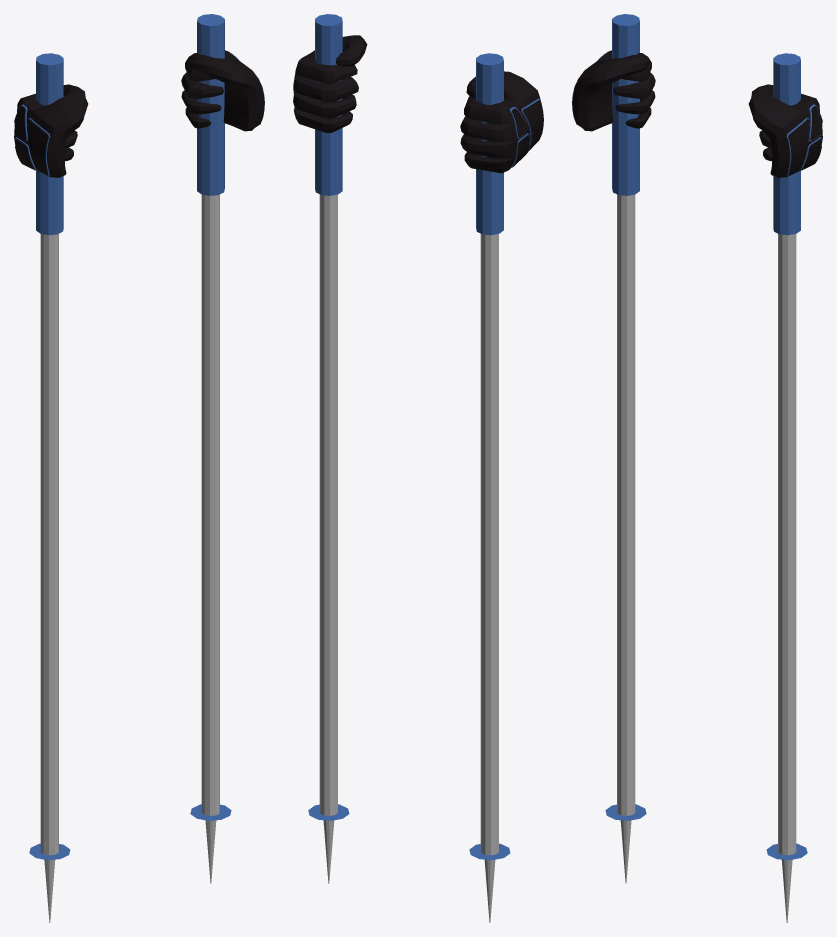
The model's file is Za_Hando.fbx.
3 renders of one model, left to right at view 1: azimuth 30°, elevation 25°; view 2: azimuth 150°, elevation 25°; view 3: azimuth 330°, elevation 25°, orthographic.
Visible parts, largest first — view 1: Stick.003, Stick.001, Cube.002, Cube.001, Stick.002, Stick; view 2: Stick.003, Stick.001, Cube.001, Cube.002, Stick, Stick.002; view 3: Stick.001, Stick.003, Cube.001, Cube.002, Stick, Stick.002.
Boxes of the visible parts, bbox=[...] form: Stick.003: bbox=[201, 194, 219, 815]; Stick.001: bbox=[40, 234, 58, 855]; Cube.002: bbox=[181, 50, 264, 131]; Cube.001: bbox=[14, 84, 88, 177]; Stick.002: bbox=[190, 14, 231, 820]; Stick: bbox=[29, 53, 70, 860]; Stick.003: bbox=[319, 194, 337, 815]; Stick.001: bbox=[480, 234, 498, 855]; Cube.001: bbox=[460, 71, 543, 173]; Cube.002: bbox=[293, 35, 367, 133]; Stick: bbox=[469, 53, 510, 860]; Stick.002: bbox=[308, 14, 349, 820]; Stick.001: bbox=[617, 194, 635, 815]; Stick.003: bbox=[778, 234, 796, 855]; Cube.001: bbox=[572, 50, 655, 131]; Cube.002: bbox=[748, 84, 822, 177]; Stick: bbox=[605, 14, 646, 820]; Stick.002: bbox=[766, 53, 807, 860].
Bounding box in the file's own units: 1859 × 6819 × 628.
